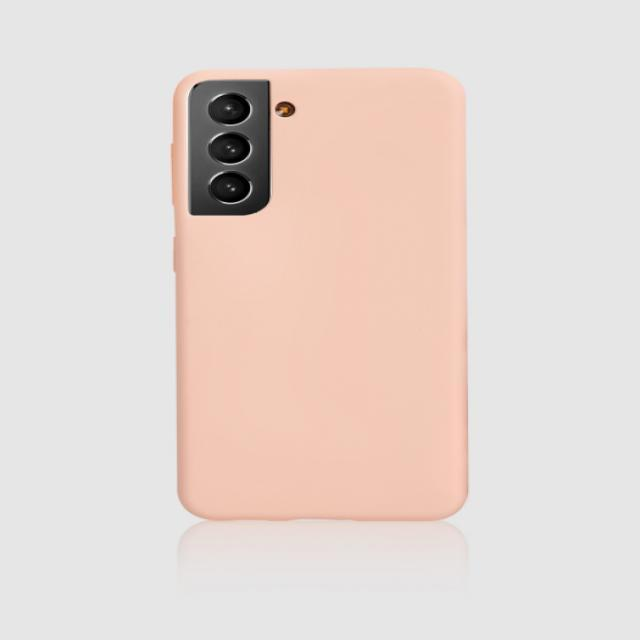phone: (171, 68, 467, 523)
